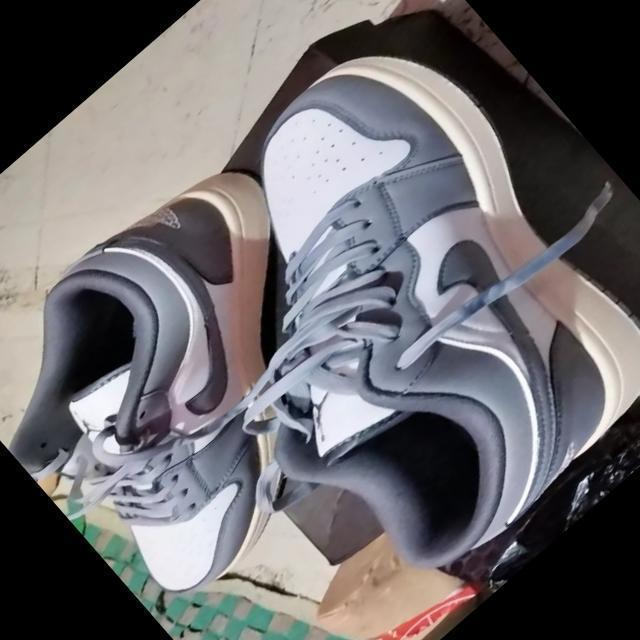nike fake jordan 1: (89, 0, 640, 623), (0, 130, 445, 632)
